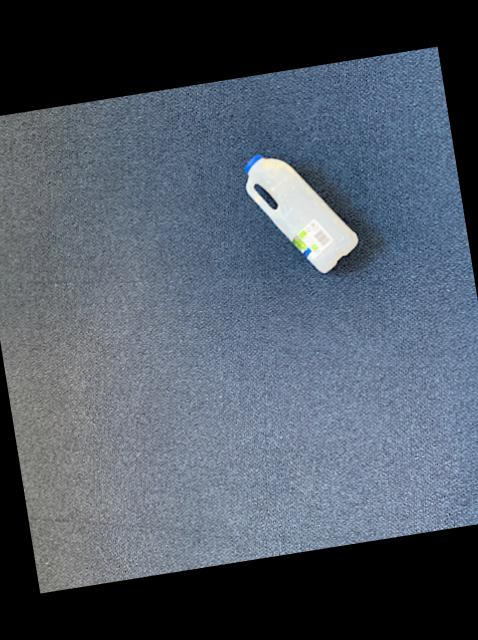plastic: (243, 157, 355, 273)
